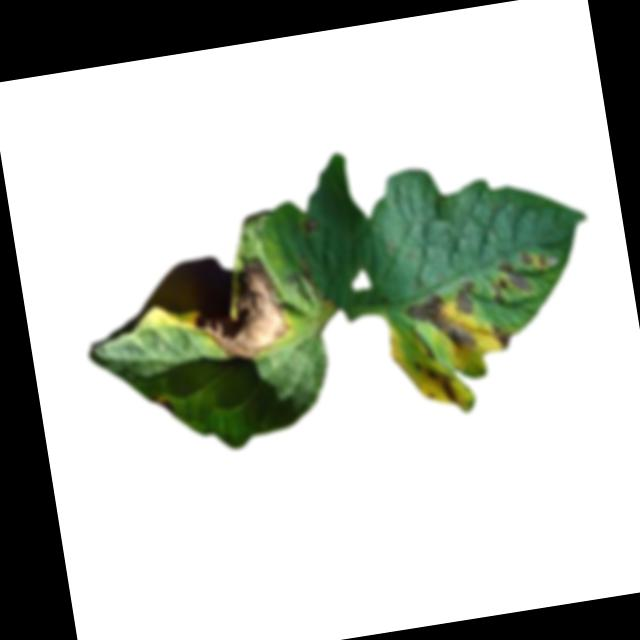Early_blight: (185, 254, 293, 365), (403, 289, 476, 357), (487, 247, 554, 307), (411, 354, 461, 411), (451, 279, 482, 321), (489, 322, 515, 351), (298, 216, 322, 235)
